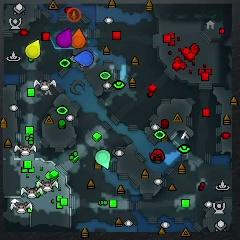Other: (67, 7, 81, 23)
p1: (74, 50, 94, 67)
p2: (96, 150, 110, 169)
p3: (55, 28, 71, 48)
p4: (26, 40, 40, 58)
p5: (70, 28, 86, 48)
